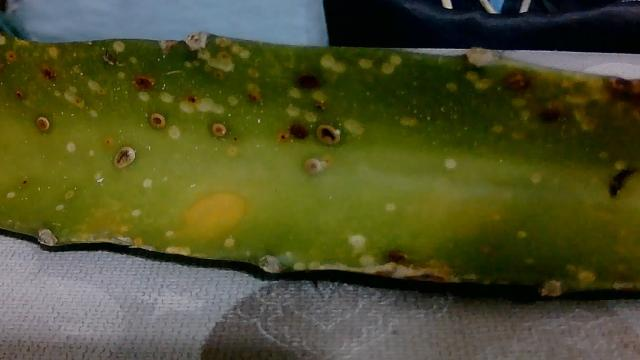stemcanker: (288, 118, 347, 148), (6, 92, 49, 133), (125, 70, 167, 104), (290, 69, 326, 96), (110, 143, 140, 175), (205, 118, 230, 145), (239, 85, 266, 106), (37, 66, 61, 86), (147, 109, 166, 131)
